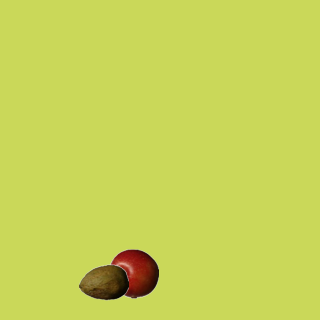Apple Braeburn: (108, 248, 158, 298)
Papaya: (78, 257, 128, 307)
